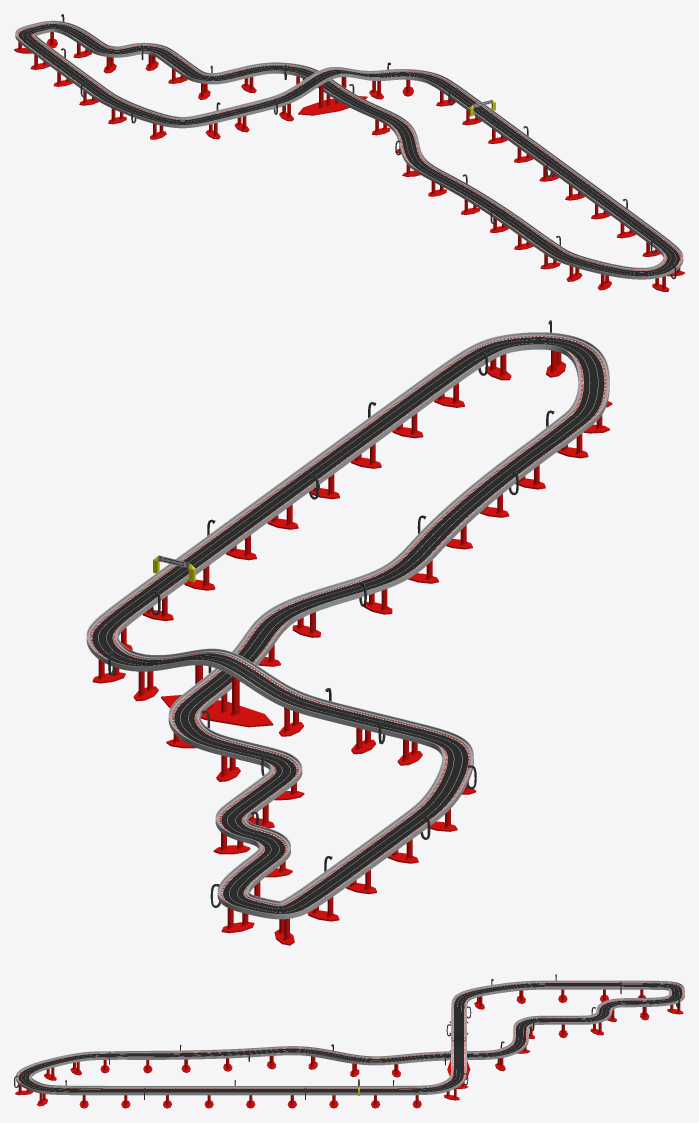
File: circuito_GTI.fbx
The picture shows the model from 3 angles, top to bottom: view 1: azimuth 30°, elevation 25°; view 2: azimuth 150°, elevation 25°; view 3: azimuth 270°, elevation 25°; orthographic projection. The views are drawn at different scales.
Visible parts, largest first — view 1: carretera, Cilindro.001; view 2: carretera, Cilindro.001; view 3: carretera.
Part boxes in pixels (x1,y1,x2,y2): carretera: (15,20,683,279); Cilindro.001: (298,77,367,115); carretera: (86,332,609,919); Cilindro.001: (161,665,273,727); carretera: (16,980,684,1095).
Size of the model in its own units: 32.24 by 13.12 by 1.49.
